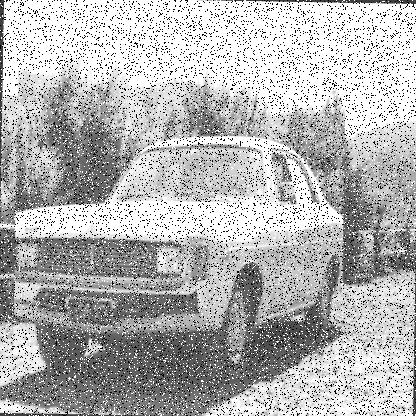Car: (12, 37, 346, 384)
